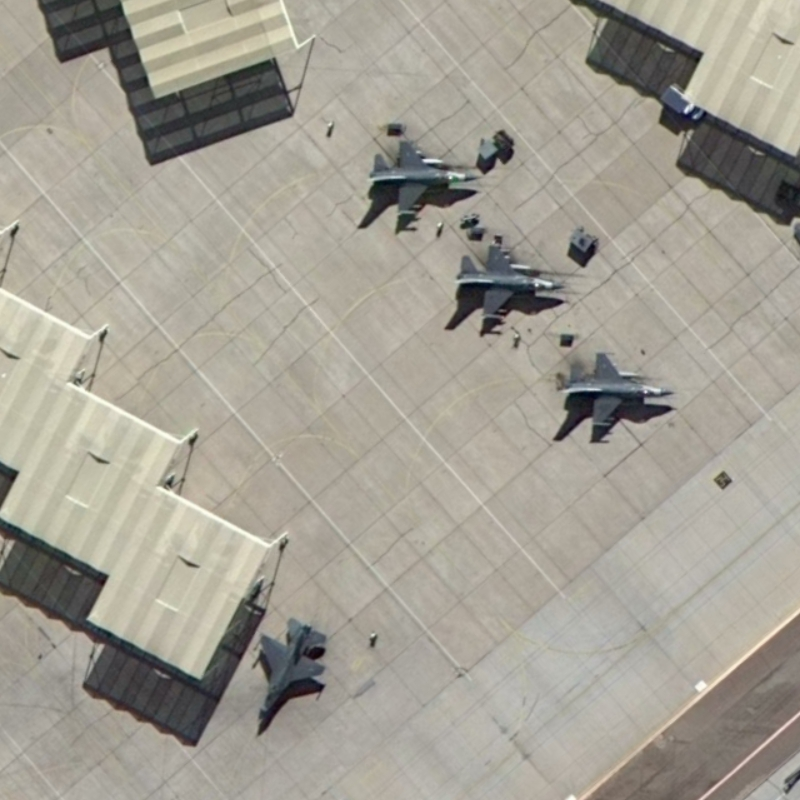A5: (363, 133, 486, 223), (451, 238, 568, 325), (249, 614, 331, 738), (557, 348, 679, 431)
